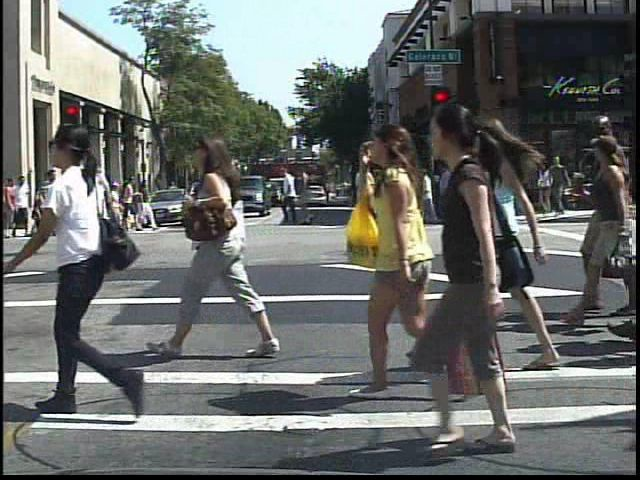person: (388, 99, 570, 464), (13, 116, 145, 434), (150, 117, 289, 363), (451, 107, 575, 378), (357, 119, 446, 398), (82, 160, 114, 239), (487, 153, 519, 225), (8, 171, 32, 242), (102, 177, 122, 215), (165, 175, 183, 211), (52, 165, 53, 233)
